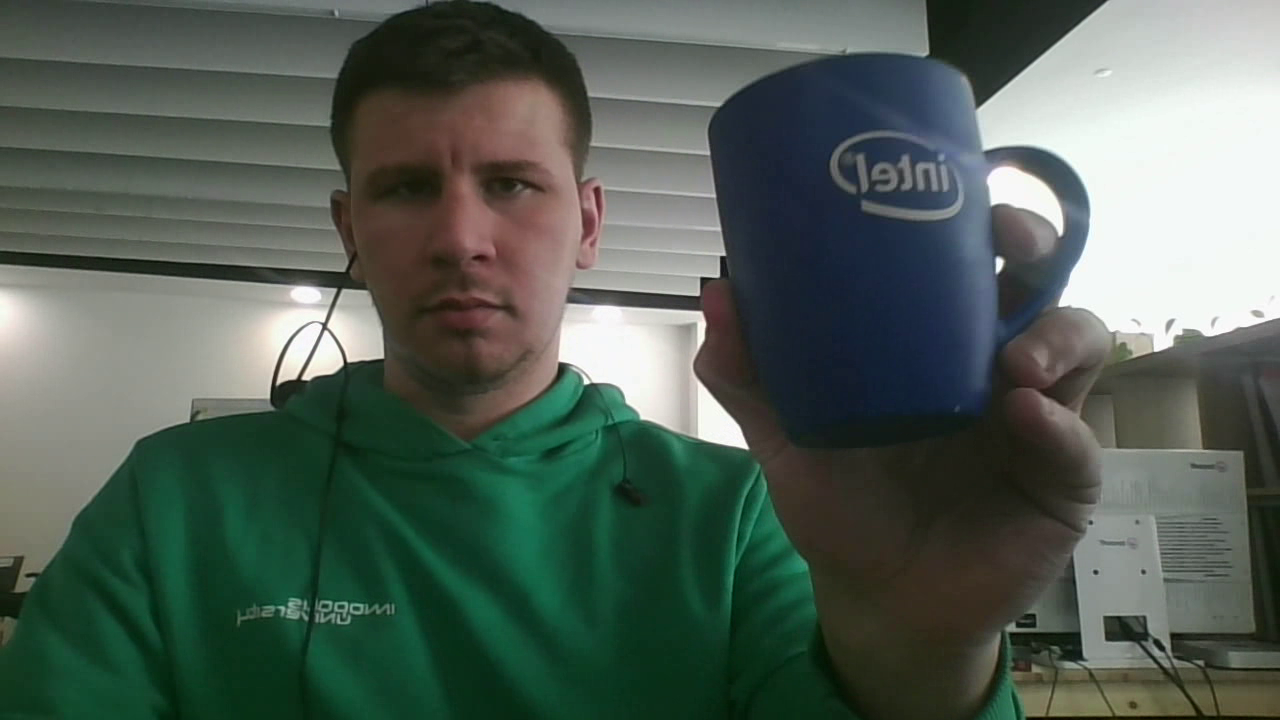cup: (705, 45, 1090, 446)
